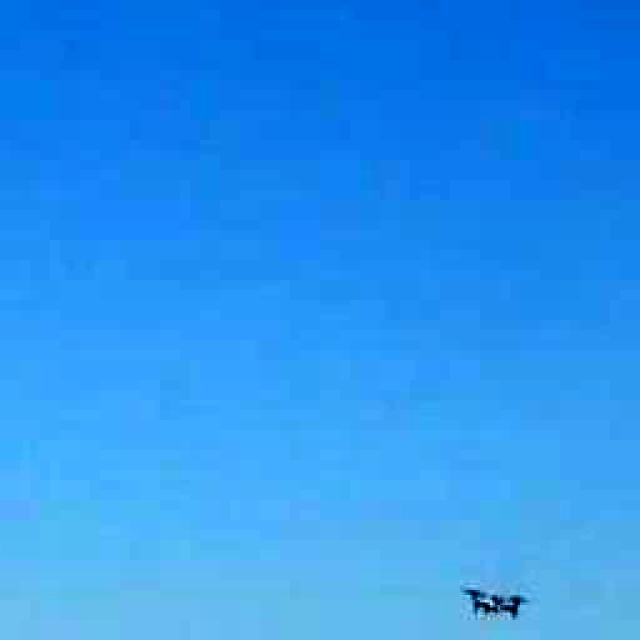bird: (445, 568, 538, 640)
